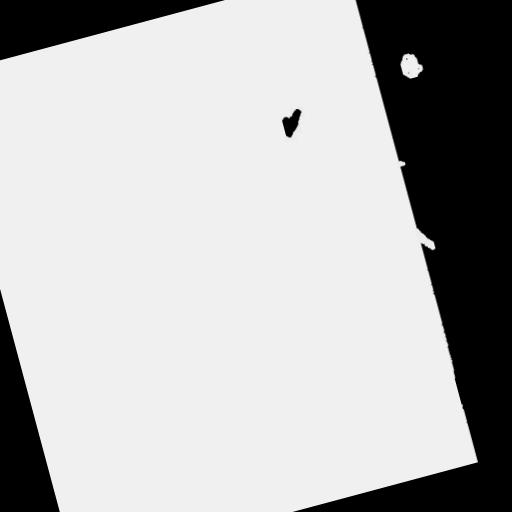copper: (270, 98, 315, 147)
mousebite: (404, 215, 444, 262), (385, 150, 414, 176)
pin-hole: (388, 40, 433, 88)
